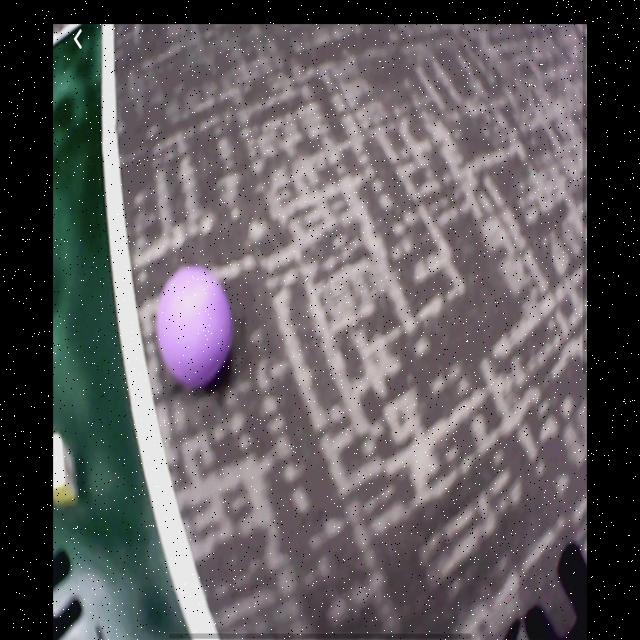ball: (155, 268, 234, 391)
